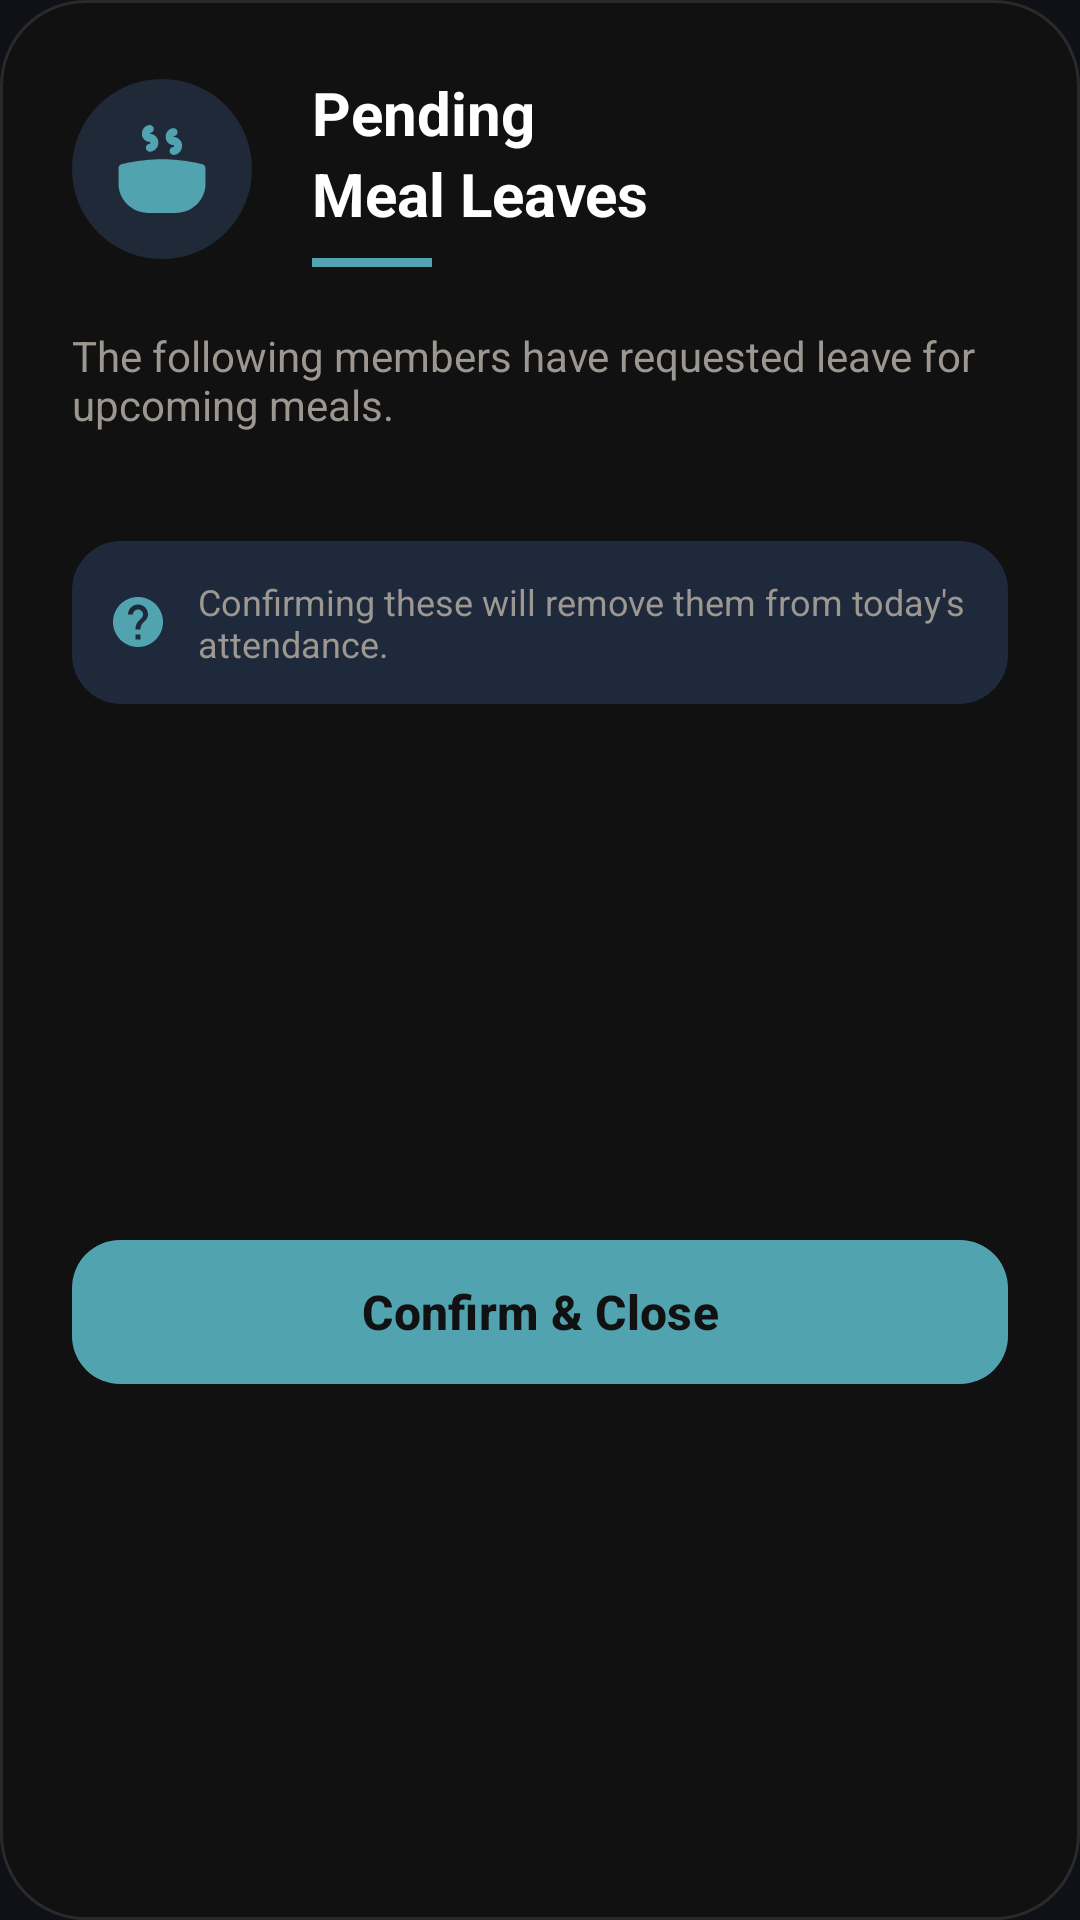

Icons on this 1080×1920 Android screen, each with its box as (x1, y1, x2, y2):
help: (113, 597, 163, 647)
